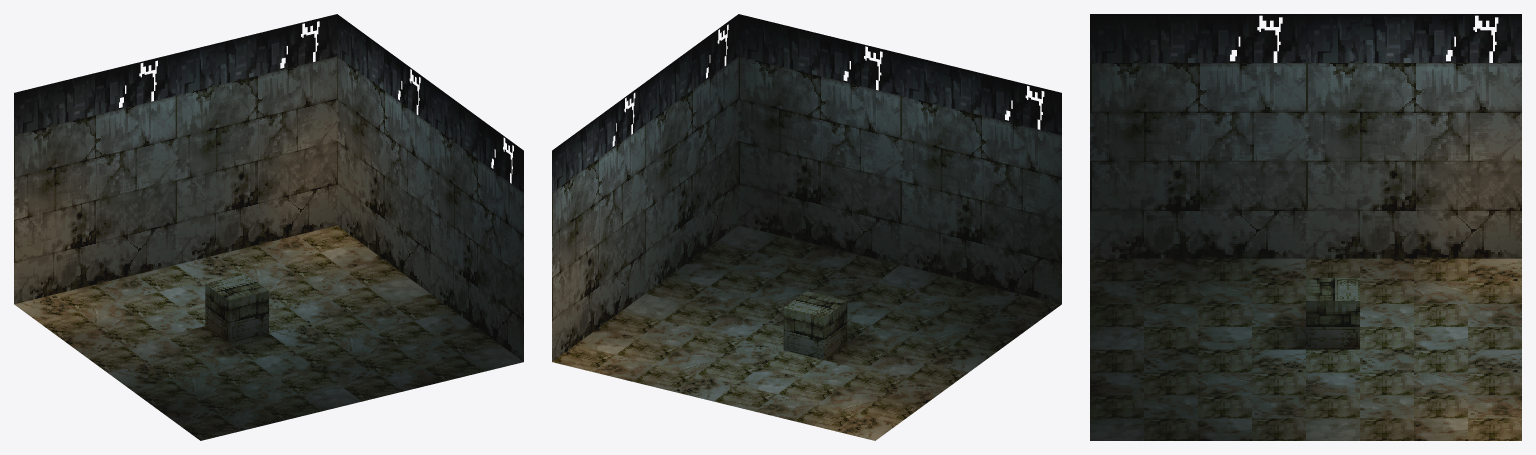
File: MAP035.gltf
The picture shows the model from 3 angles, left to right: view 1: azimuth 30°, elevation 25°; view 2: azimuth 150°, elevation 25°; view 3: azimuth 270°, elevation 25°; orthographic projection. The views are drawn at different scales.
Bounding box in the file's own units: 102 × 64 × 102.
Materials: 5 (5 with a texture image).
